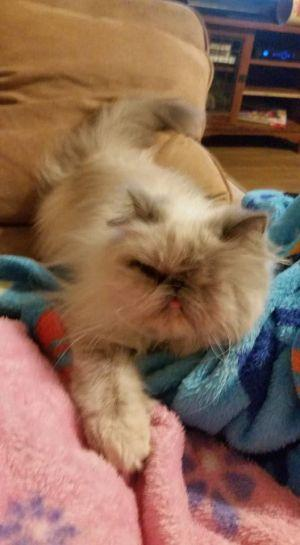persian: (82, 163, 278, 370)
